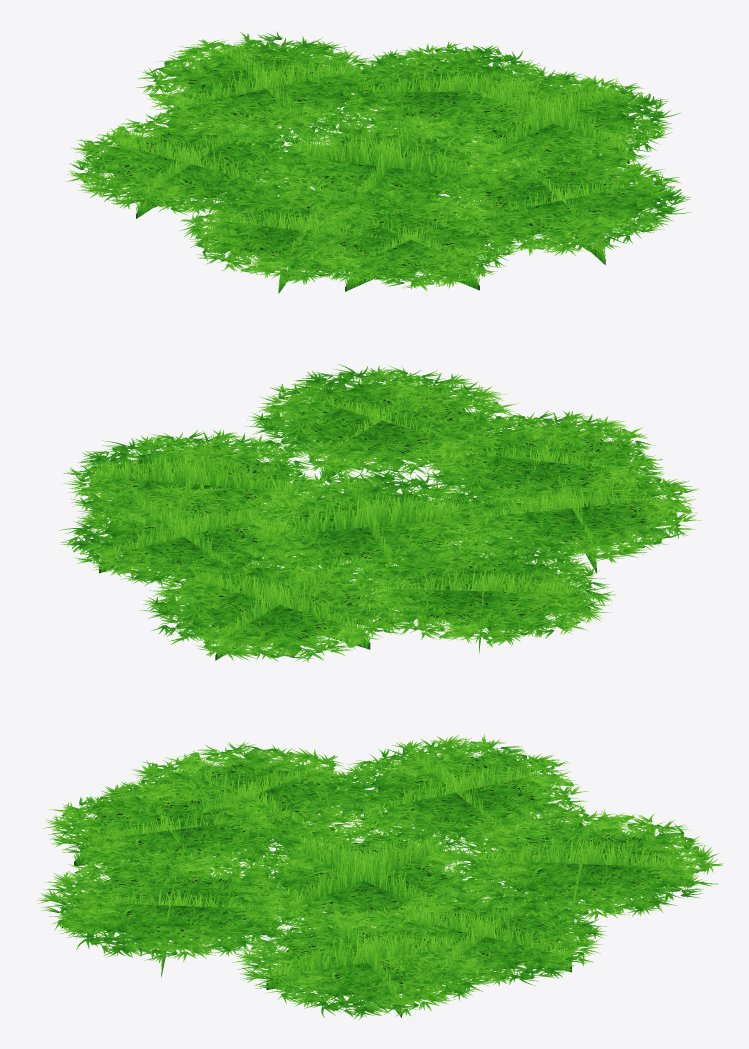
The model's file is grass_patch_L.glb.
The picture shows the model from 3 angles, top to bottom: view 1: azimuth 30°, elevation 25°; view 2: azimuth 150°, elevation 25°; view 3: azimuth 270°, elevation 25°; orthographic projection. The views are drawn at different scales.
Visible parts, largest first — view 1: grass_patch_L; view 2: grass_patch_L; view 3: grass_patch_L.
Part boxes in pixels (x1=…): grass_patch_L: x1=65, y1=31, x2=691, y2=293; grass_patch_L: x1=59, y1=364, x2=701, y2=662; grass_patch_L: x1=37, y1=734, x2=722, y2=1019.
Size of the model in its own units: 4.16 by 0.3153 by 4.07.
Materials: 2 (2 with a texture image).
